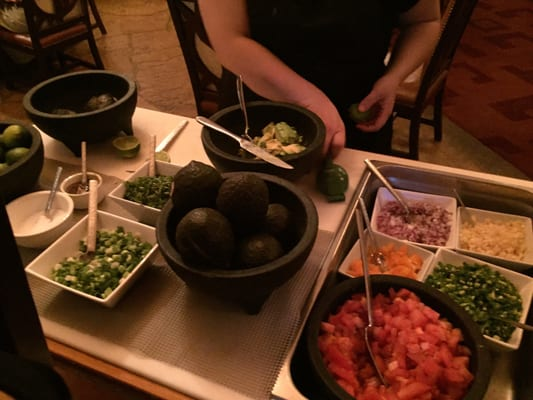salad: (44, 166, 63, 216)
sushi: (293, 273, 499, 400), (153, 166, 321, 309), (27, 206, 161, 308), (198, 102, 326, 183), (22, 69, 138, 151), (3, 190, 75, 250), (0, 122, 45, 205)
